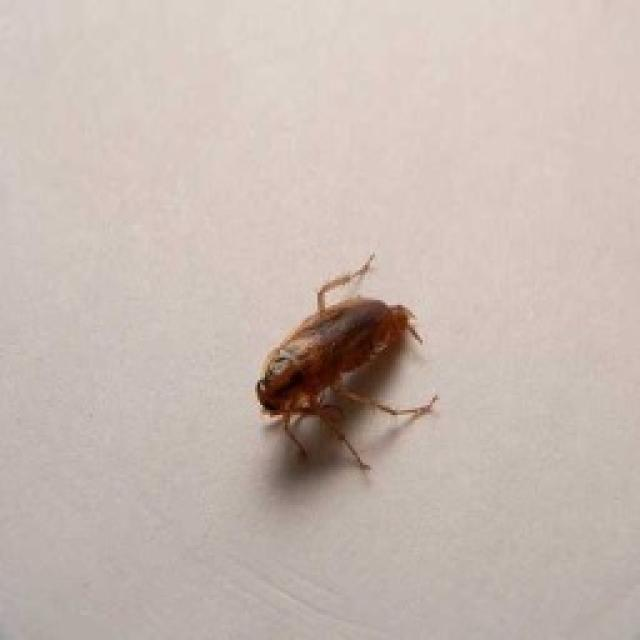cockroach: (249, 248, 443, 479)
